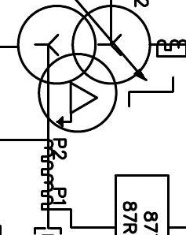11522_tx_ynyn0d1: (16, 4, 152, 134)
